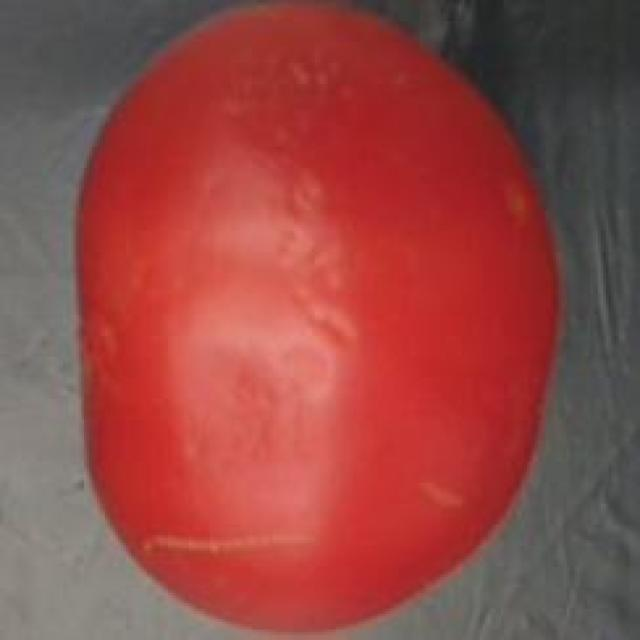overripe tomato: (52, 0, 566, 640)
